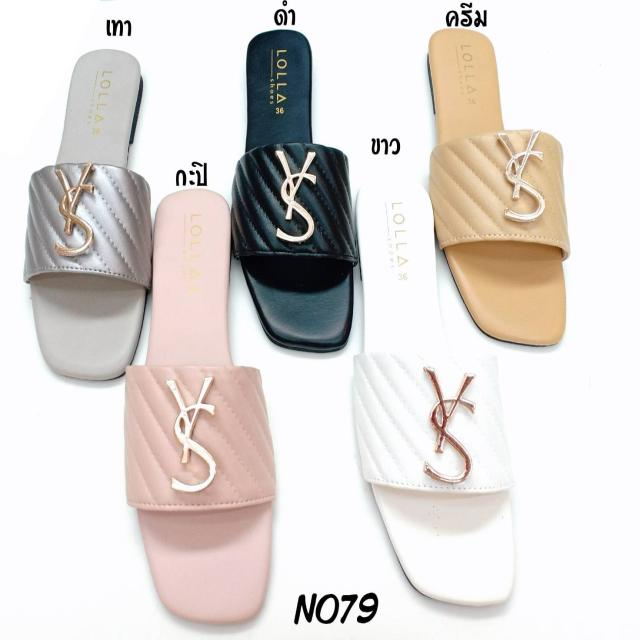black: (243, 32, 349, 352)
cream: (426, 24, 568, 348)
grey: (36, 51, 147, 384)
kapi: (137, 189, 273, 622)
white: (357, 182, 507, 610)
